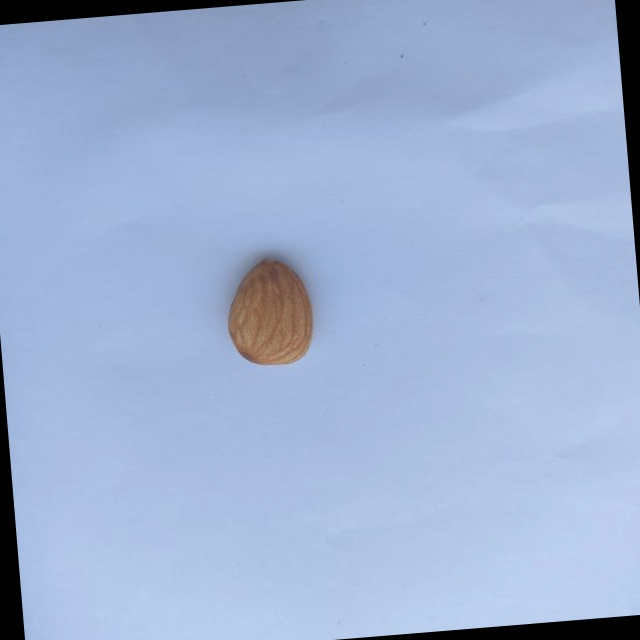grade1: (216, 247, 327, 376)
